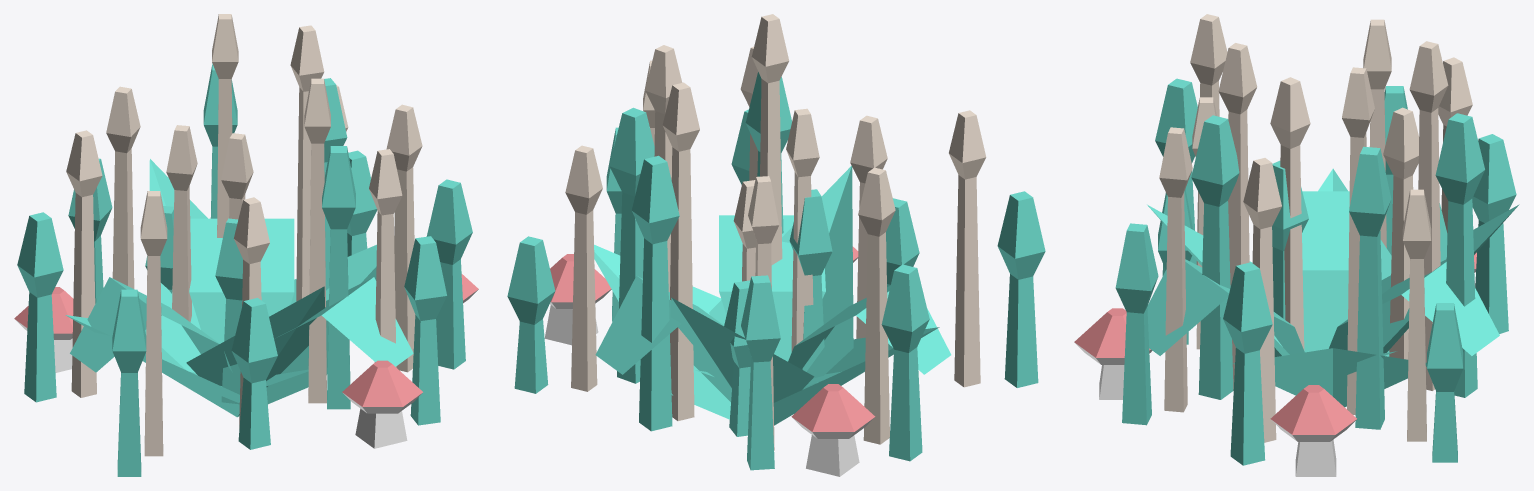
The model's file is bush.glb.
3 views of the same model, side by side, from view 1: azimuth 30°, elevation 25°; view 2: azimuth 150°, elevation 25°; view 3: azimuth 270°, elevation 25° (orthographic). The views are drawn at different scales.
Visible parts, largest first — view 1: plant_bushSmall; view 2: plant_bushSmall; view 3: plant_bushSmall.
Boxes of the visible parts, x1,y1,x2,y2 form: plant_bushSmall: [14, 14, 478, 476]; plant_bushSmall: [507, 14, 1045, 476]; plant_bushSmall: [1074, 14, 1519, 476].
Bounding box in the file's own units: 2.34 × 1.9 × 2.
